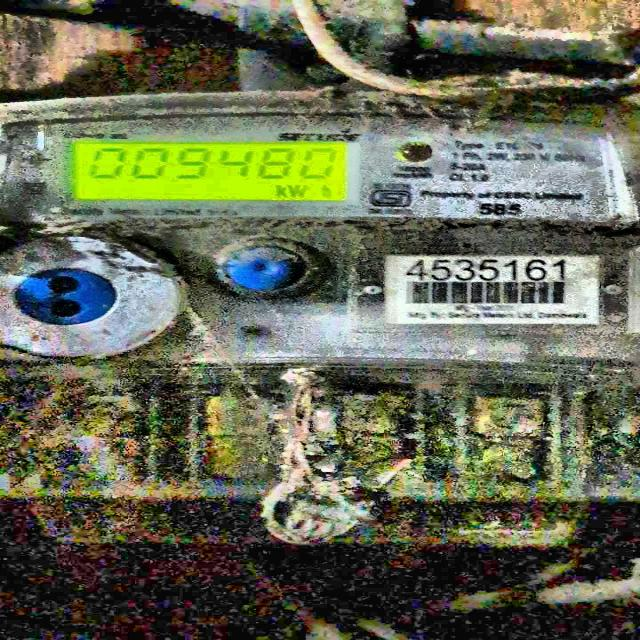Digital: (0, 97, 633, 573)
Reading: (75, 145, 346, 184)
Serial No.: (401, 260, 575, 280)
